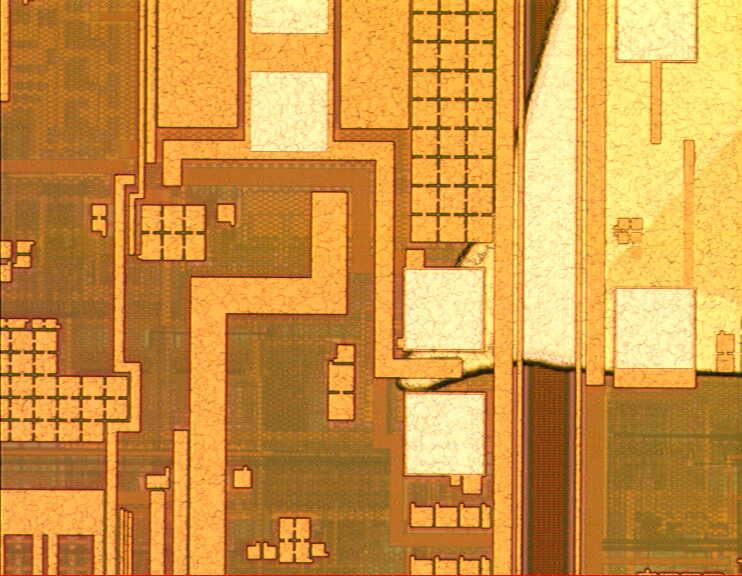BLOCK ETCH: (382, 1, 742, 410)
